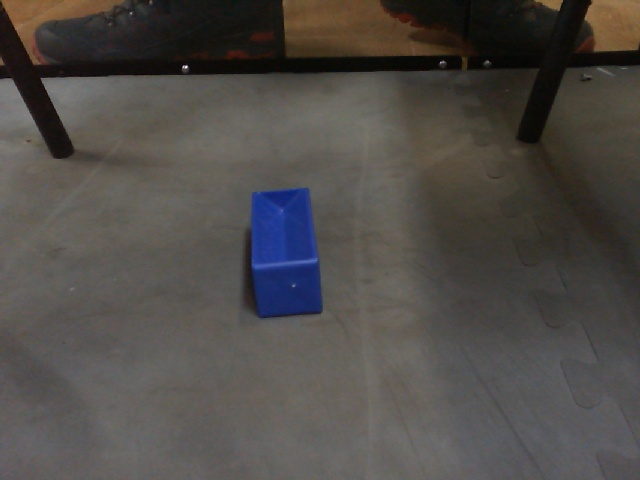BlueSample: (240, 183, 327, 320)
